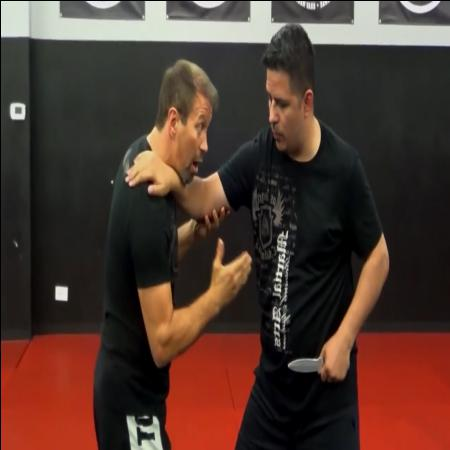long weapon: (282, 347, 352, 381)
